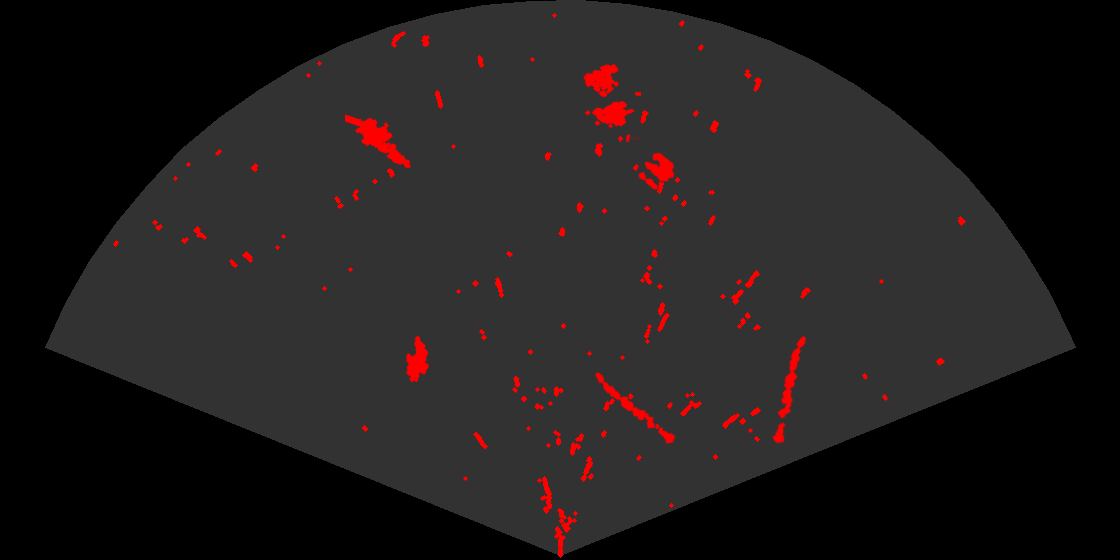AUV: (405, 334, 430, 384)
ball: (637, 151, 676, 192)
cage: (582, 62, 641, 142)
chain: (594, 371, 677, 445), (770, 334, 808, 446)
frogman: (345, 113, 413, 170)
